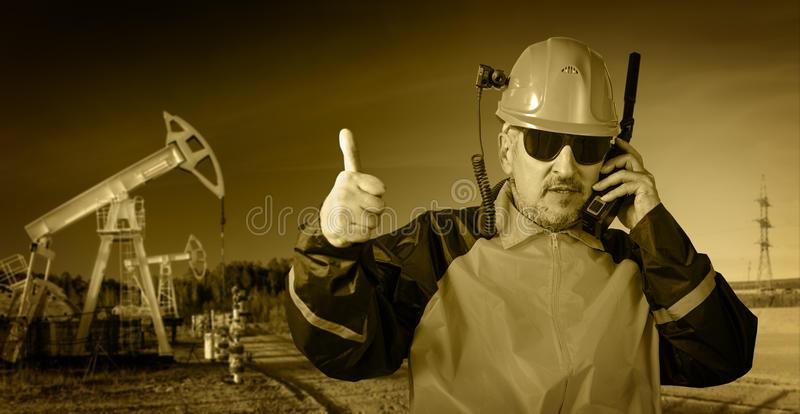helmet: (497, 39, 619, 142)
